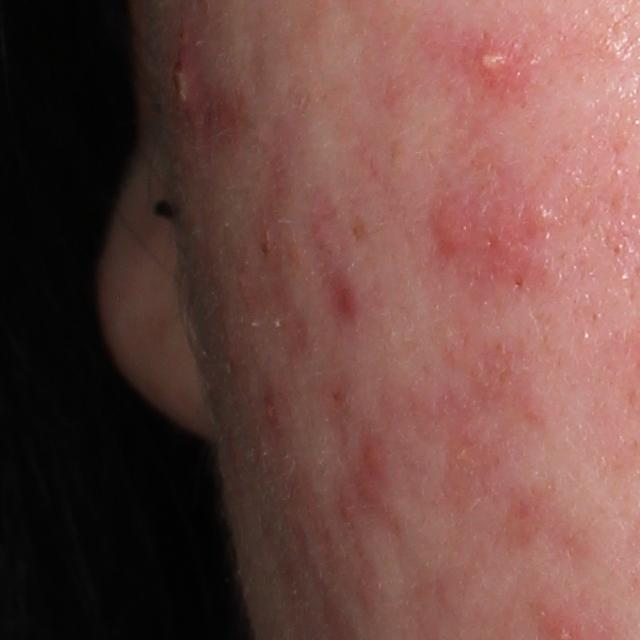nodule: (430, 184, 553, 292)
papule: (365, 444, 385, 480), (339, 497, 356, 521)
pustule: (476, 49, 512, 76)
